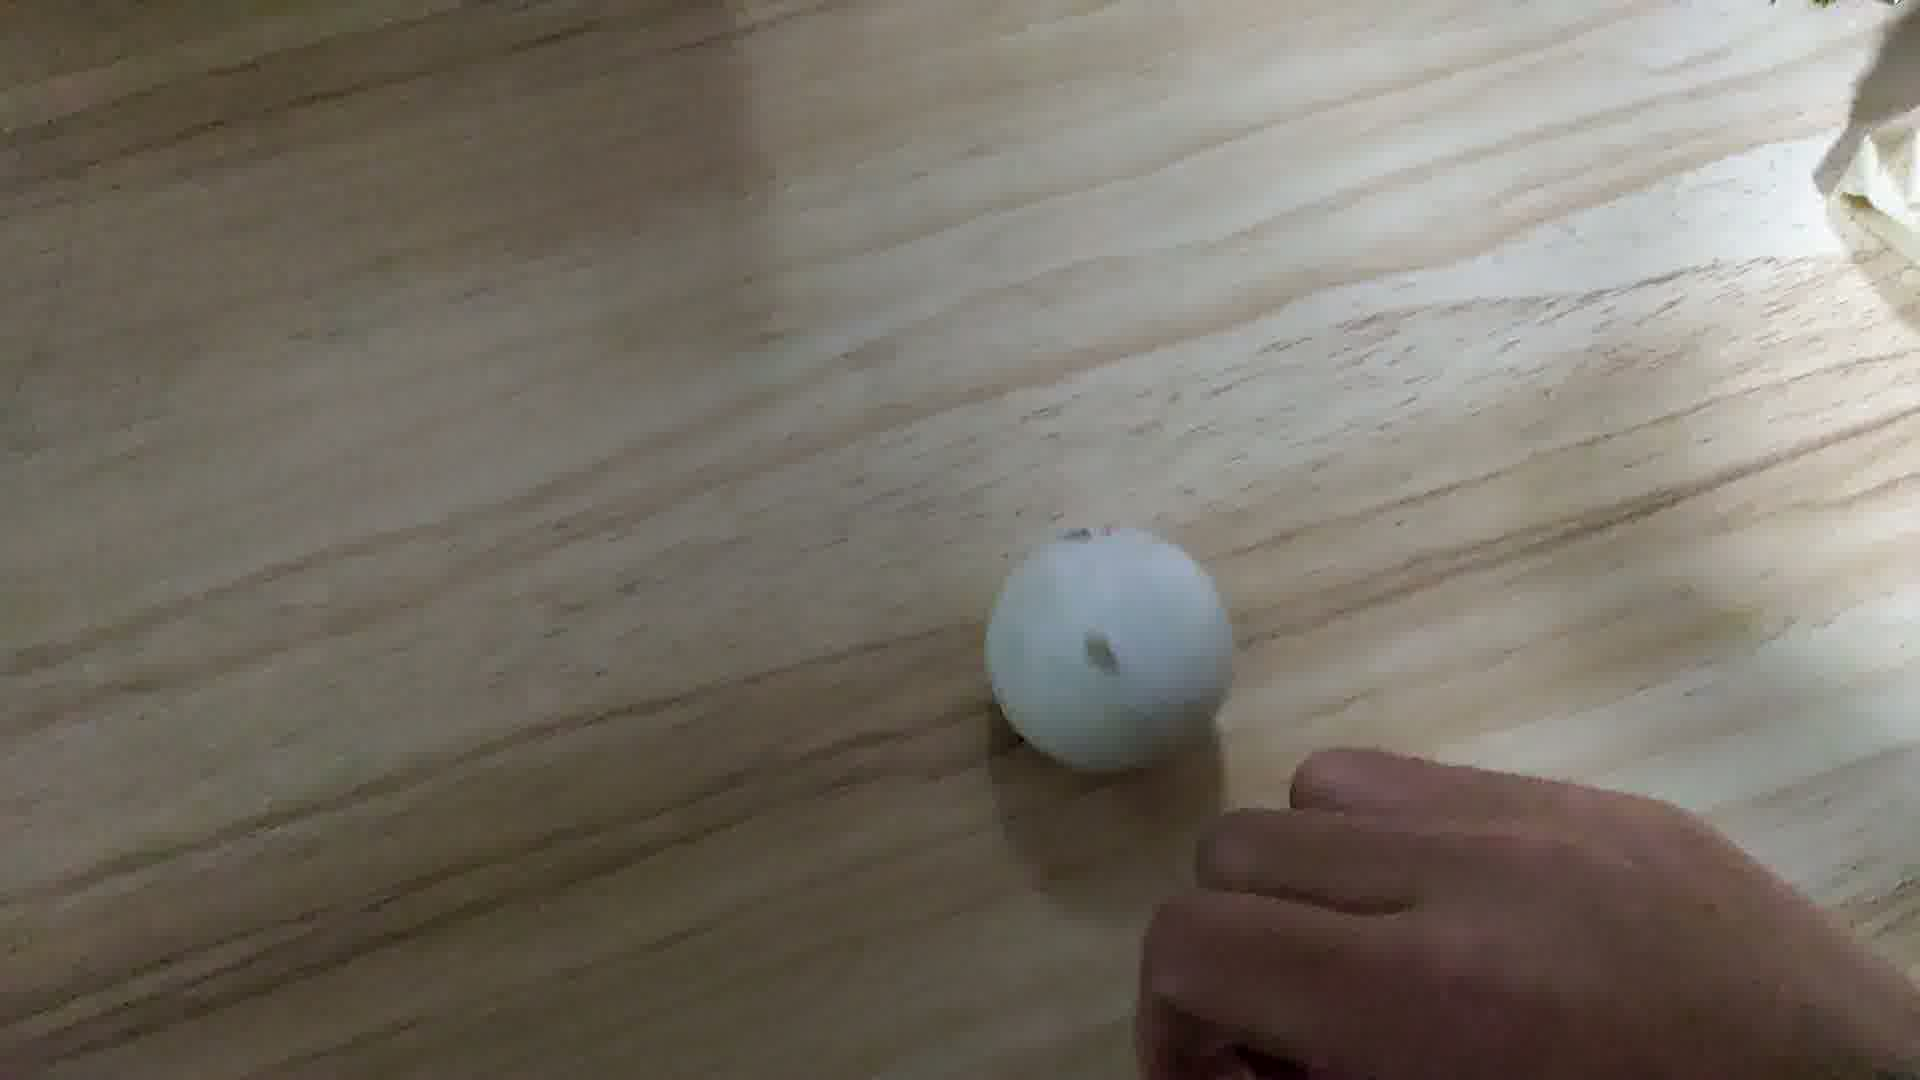Ball: (988, 529, 1238, 774)
